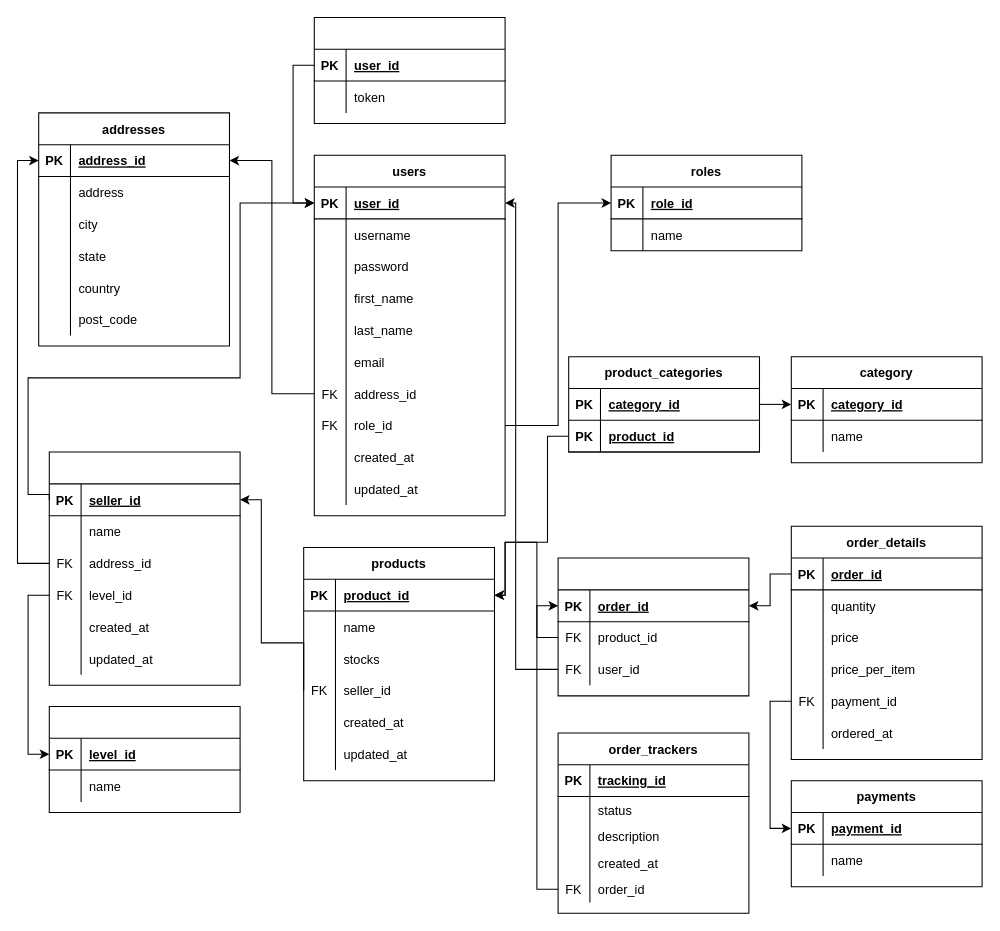
The diagram is 1000 pixels wide and 931 high, and some of its shapes have lost their labels. The box of each missing label's shape, as (x1, y1, x2, y2) in pixels:
orders: (557, 557, 749, 696)
seller_levels: (48, 705, 240, 812)
sellers: (48, 451, 240, 685)
user_actives: (313, 16, 505, 123)
